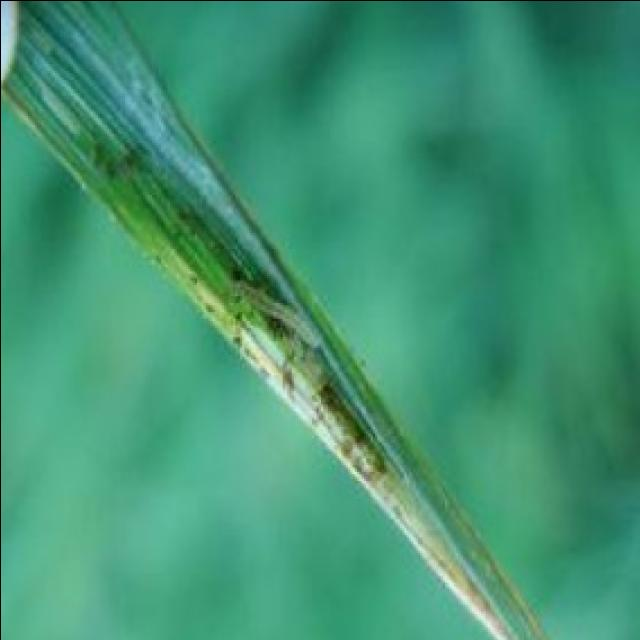rice leaf roller: (230, 284, 318, 347)
